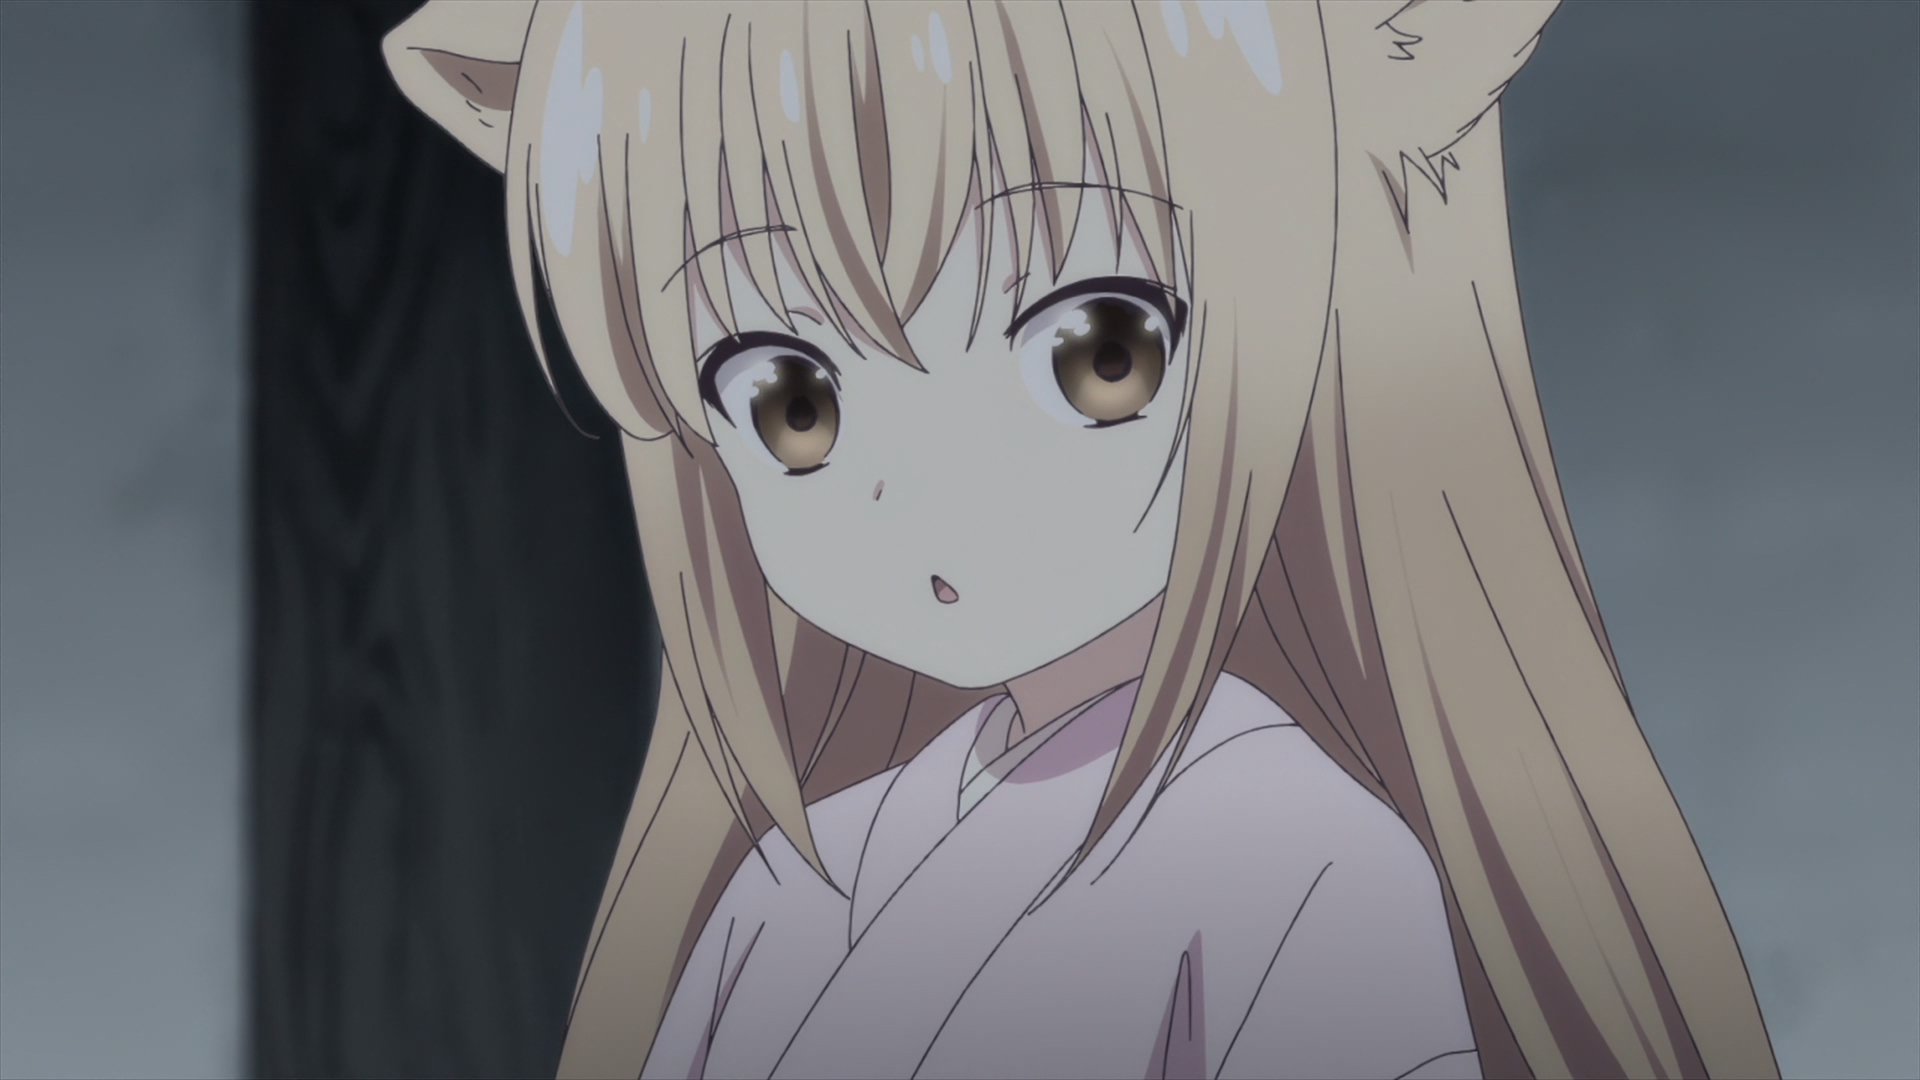柚: (384, 1, 1779, 1080)
